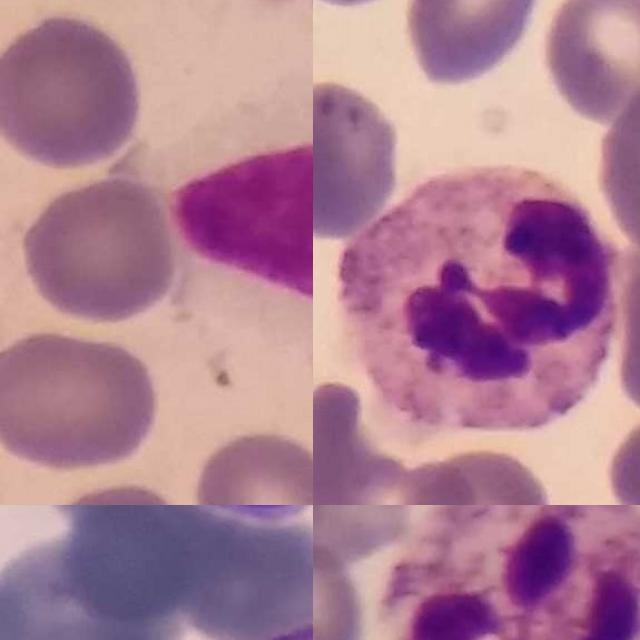Lymphocyte: (165, 62, 313, 338)
Neutrophil: (338, 165, 617, 433), (386, 505, 640, 640)
